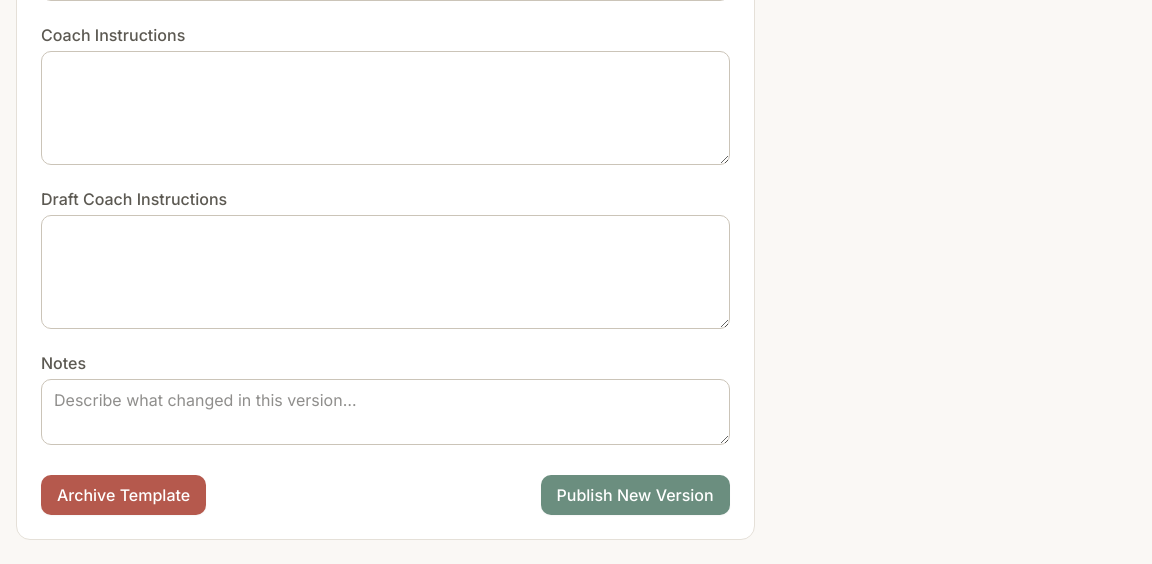
Test: AC6: Archive Template with danger confirmation › clicking 'Archive' opens a confirmation dialog
(page scrolled)
Click the button "Archive Template": (124, 495) [41,475,206,515]
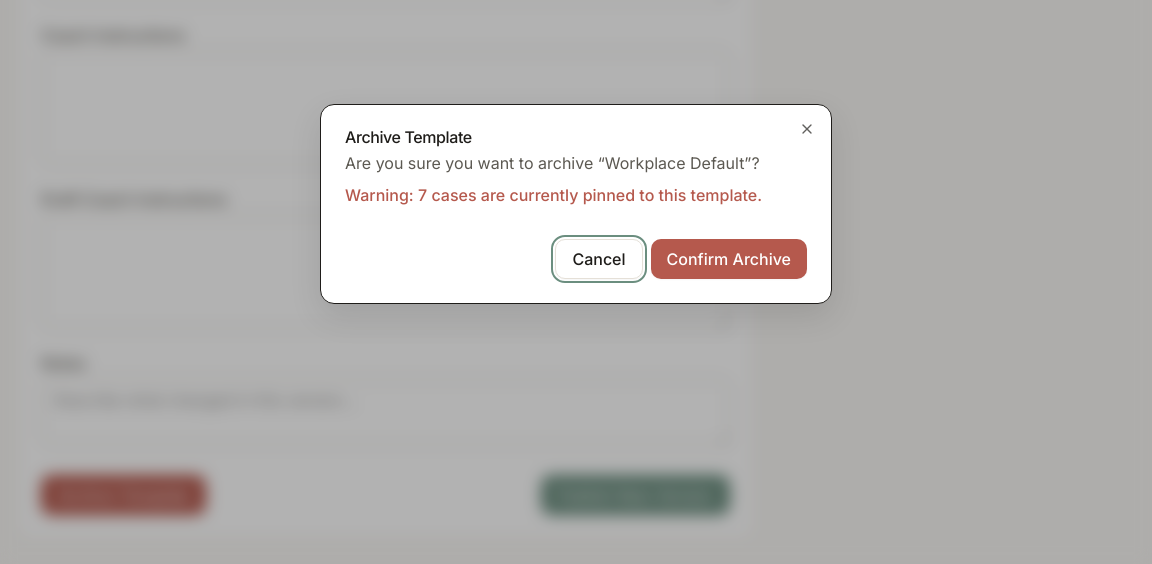
Expected: the dialog is shown, [320,104,832,304]
